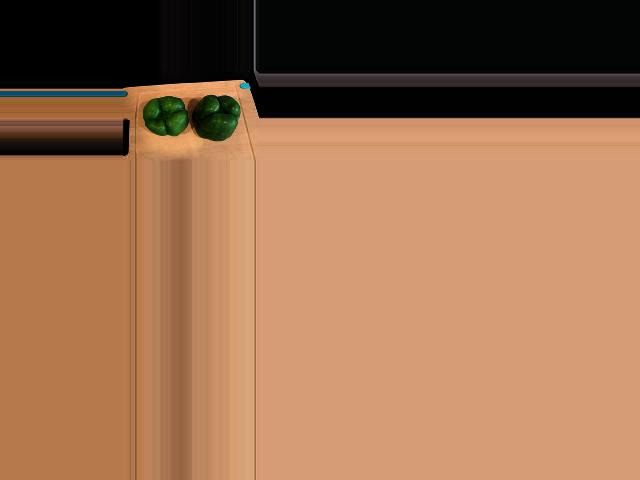bell_pepper: (143, 95, 190, 141)
